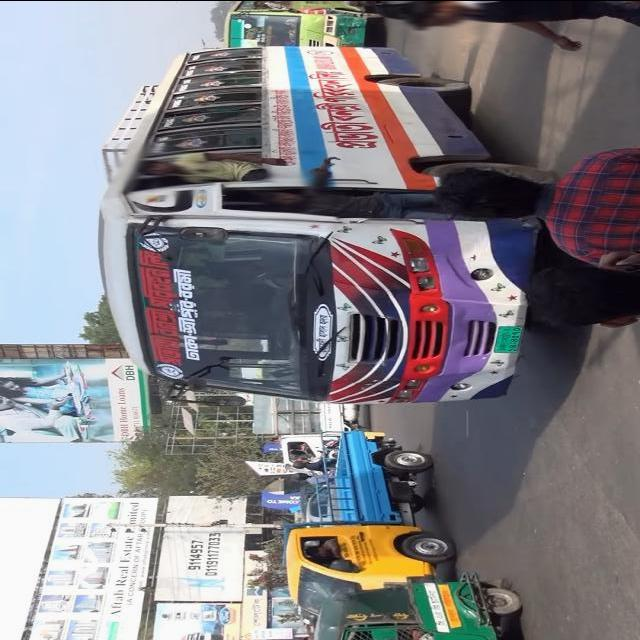bus: (98, 45, 557, 408)
